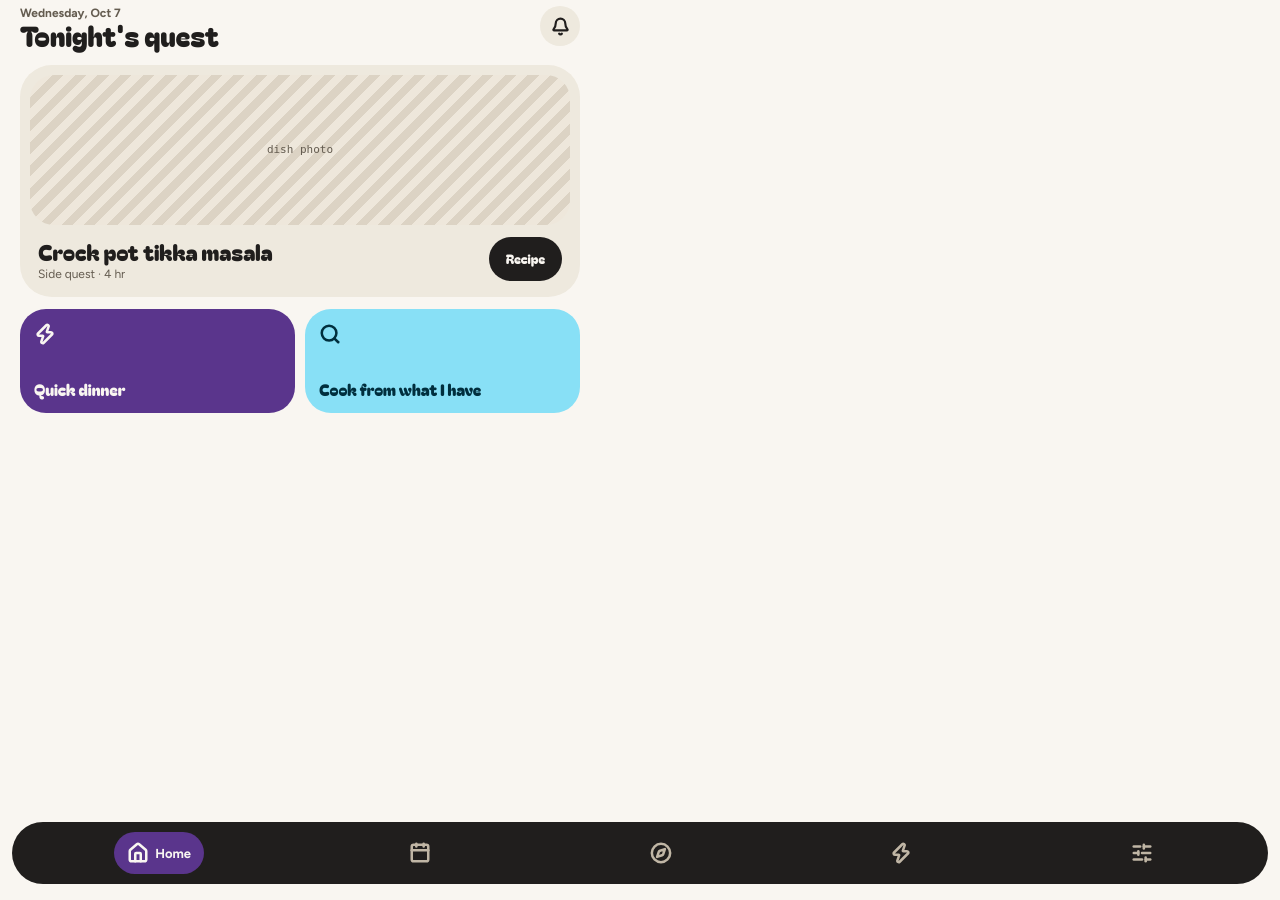
Test: Home after a board evening edit › does not render the previous dinner when the Home read after a board edit is a service-worker cache fallback
Expected: the heading "Crock pot tikka masala" is shown, [38,239,273,263]
Expected: the button "Recipe" is shown, [489,237,562,281]
Click the 1st link named "Plan": (430, 857) [410,842,450,872]
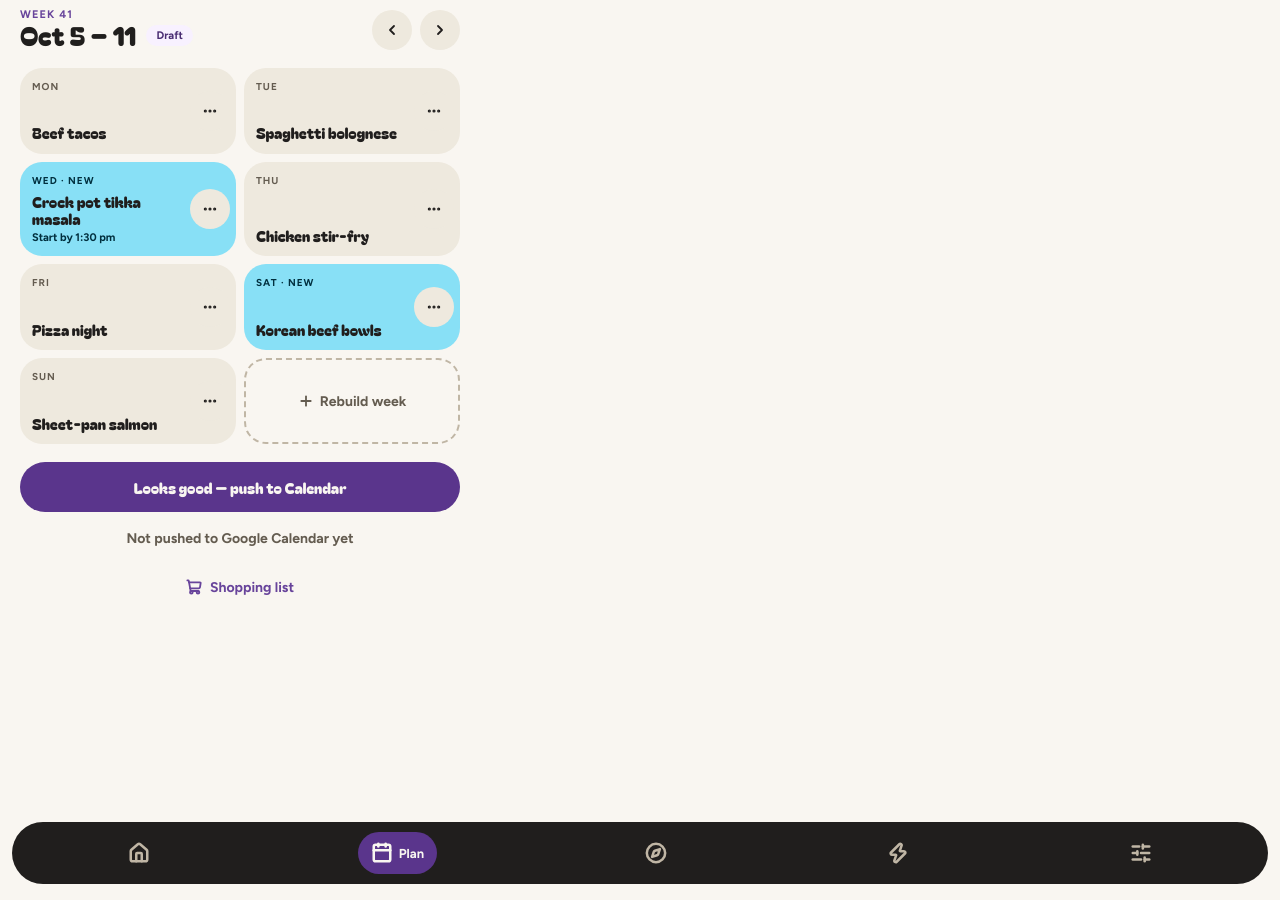
Expected: the text "Crock pot tikka masala" is shown, [32,191,141,229]
Result: the heading "Oct 5 – 11" is shown at [20,21,136,50]
Click the button "WED · NEW Crock pot tikka masala Start by 1:30 pm": (105, 209) [20,162,190,256]
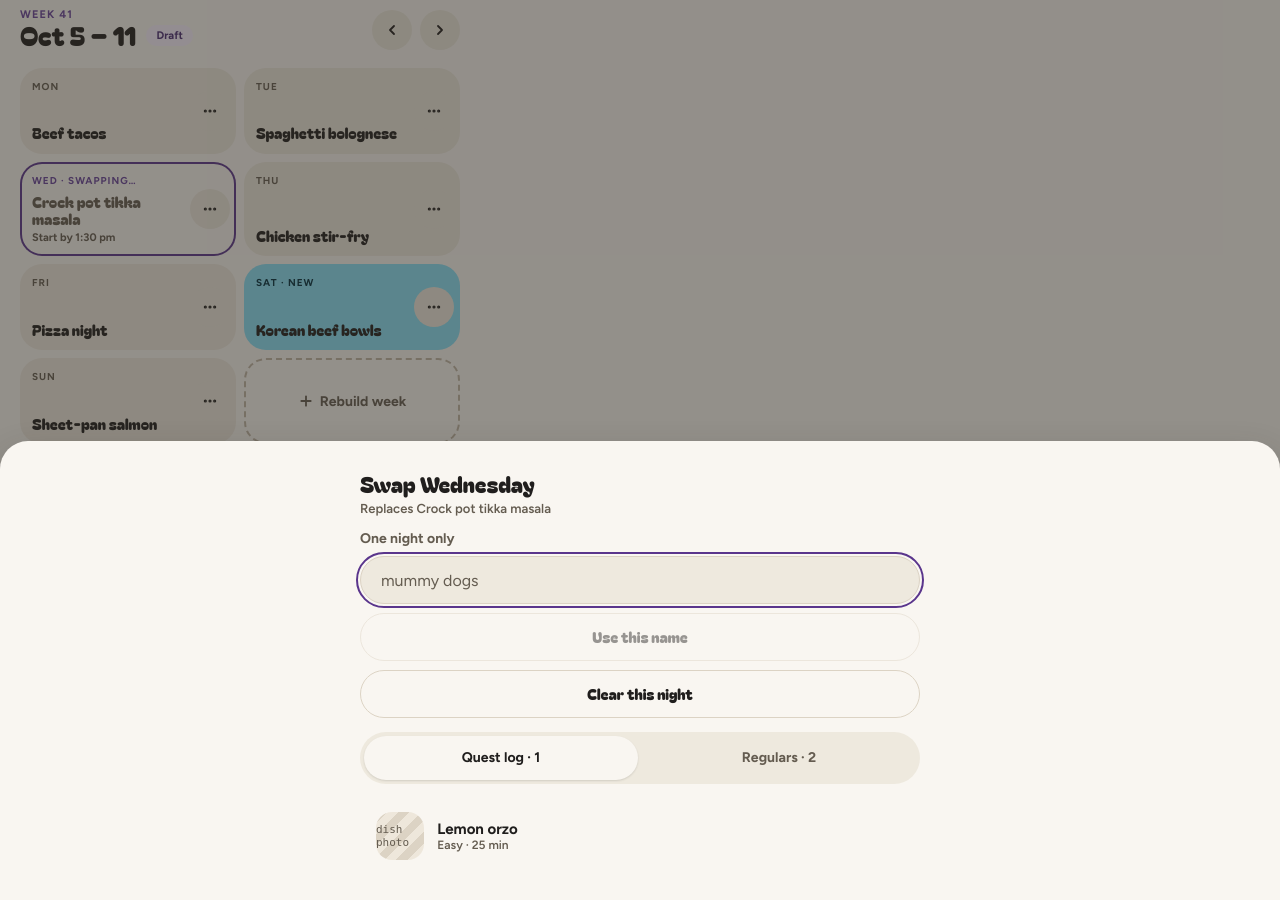
Click the radio button labelled "Regulars · 2": (779, 758) [642,736,916,780]
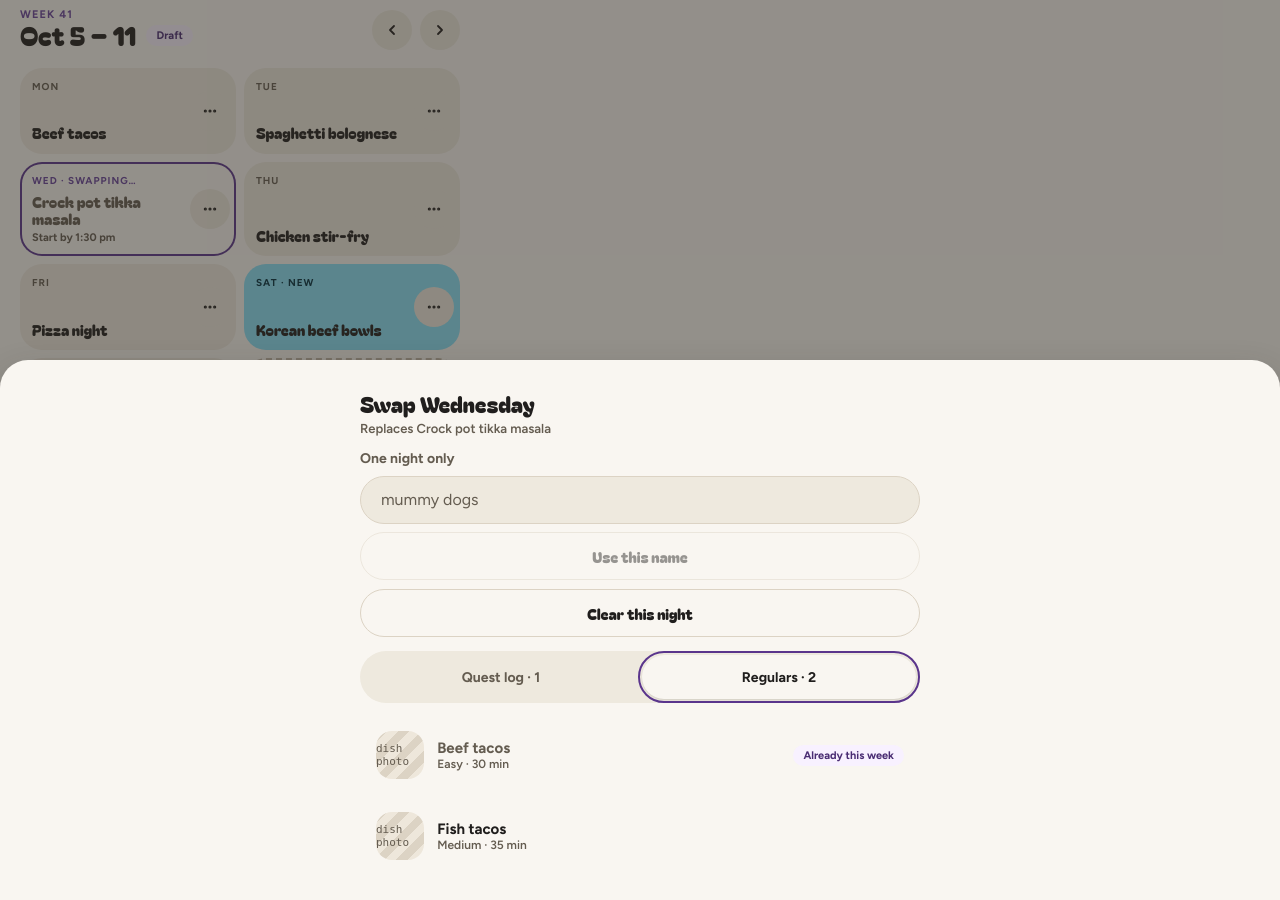
Click the button "dish photo Fish tacos Medium · 35 min": (400, 836) [360,798,920,874]
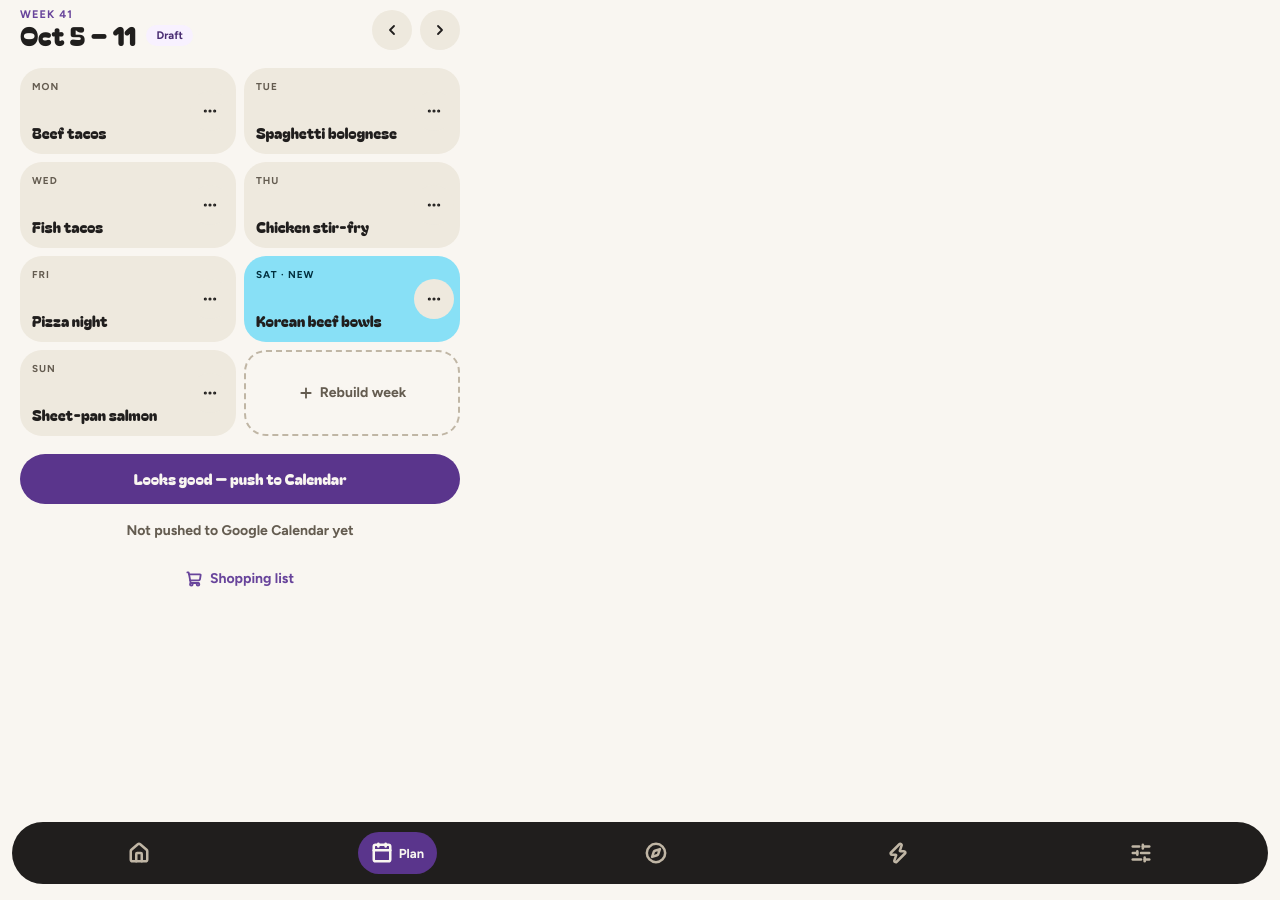
Expected: the button named "Evening for Wednesday" is enabled, [188,183,232,227]
Result: the text "Fish tacos" is shown at [32,216,103,237]
Click the 1st link named "Home": (155, 857) [128,842,182,872]
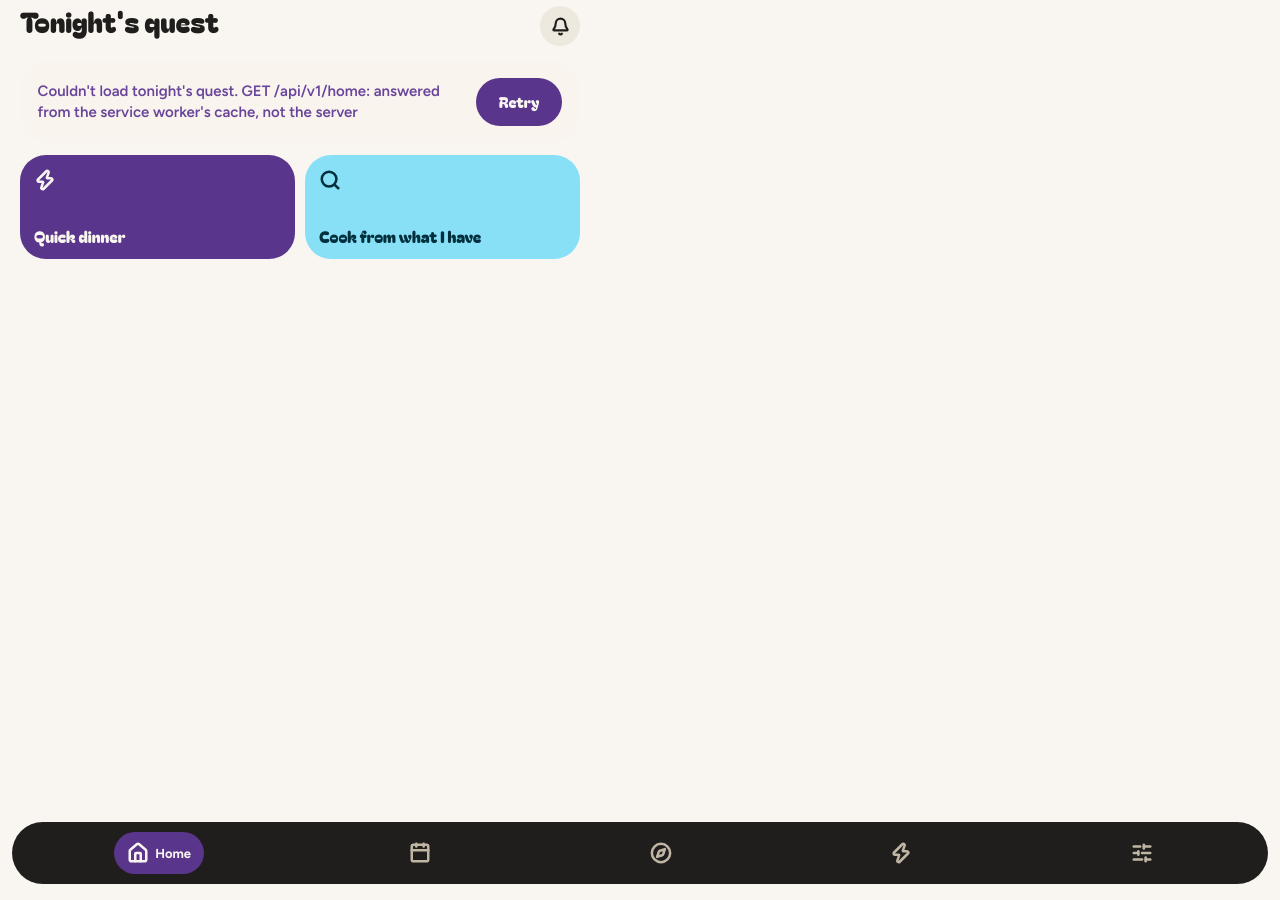
Expected: the button "Crock pot tikka masala" is not shown
Result: the message shows "Couldn't load tonight's quest." at [38,82,242,100]
Result: the message shows "answered from the service worker's cache, not the server" at [38,82,440,121]
Click the button "Retry": (519, 102) [476,78,562,126]
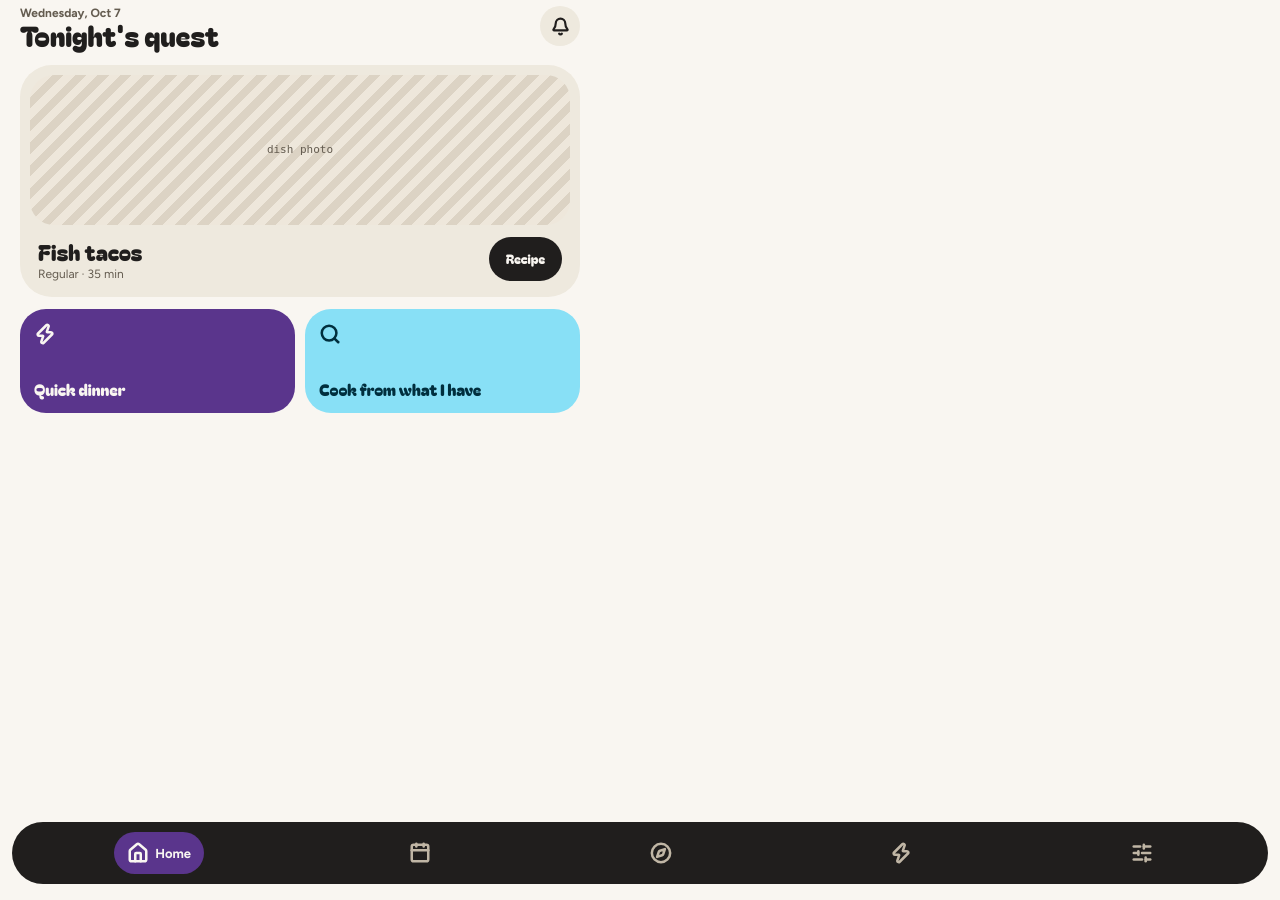
Result: the heading "Fish tacos" is shown at [38,239,142,263]
Result: the button "Recipe" is shown at [489,237,562,281]
Result: the message is gone
